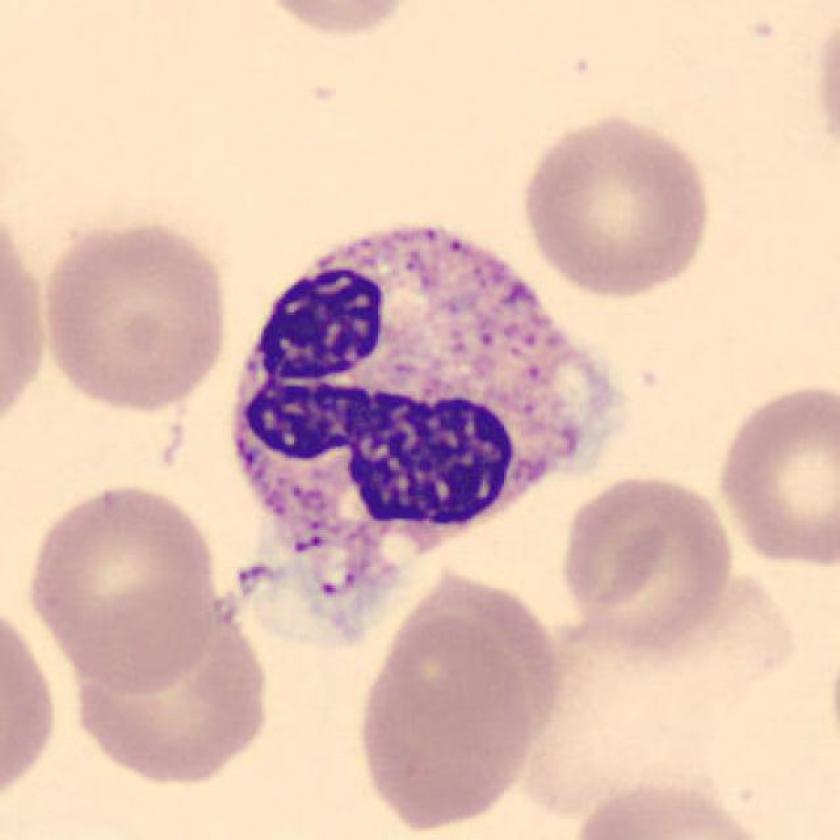neutrophil: (233, 228, 618, 631)
